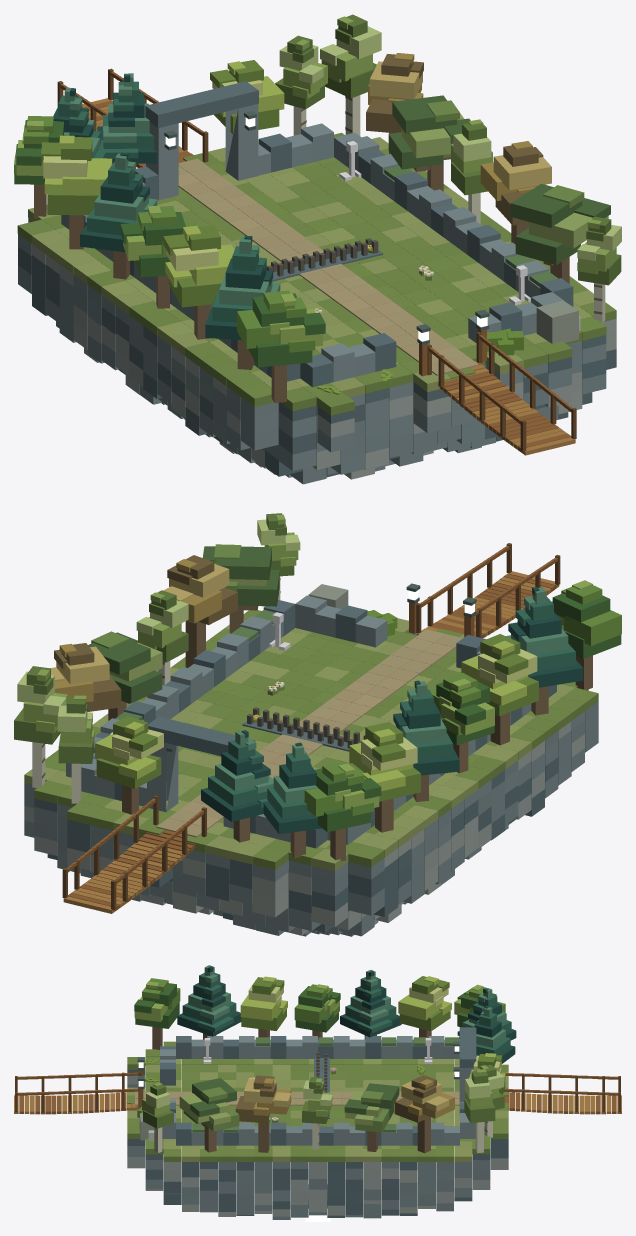
The model's file is room_spikes_purified.glb.
3 renders of one model, top to bottom at view 1: azimuth 30°, elevation 25°; view 2: azimuth 150°, elevation 25°; view 3: azimuth 270°, elevation 25°, orthographic. The views are drawn at different scales.
Parts seen in each view (by area): view 1: room_spikes_blocks, tree0_(0, 0).001, tree3_(0, 0).001, tree4_(0, 0).002, tree3_(0, 0).002, tree4_(0, 0).001, tree2_(0, 0).002, tree2_(0, 0).001, tree1_(0, 0).003, tree5_(0, 0).001, tree2_(0, 0).004, tree0_(0, 0).002 (+9 smaller); view 2: room_spikes_blocks, tree2_(0, 0).004, tree2_(0, 0).001, tree4_(0, 0).001, tree4_(0, 0).002, tree0_(0, 0).003, tree5_(0, 0).001, tree0_(0, 0).001, tree4_(0, 0).003, tree2_(0, 0).002, tree2_(0, 0).003, tree0_(0, 0).002 (+8 smaller); view 3: room_spikes_blocks, tree2_(0, 0).001, tree3_(0, 0).001, tree2_(0, 0).002, tree5_(0, 0).002, tree4_(0, 0).002, tree5_(0, 0).001, tree3_(0, 0).002, tree4_(0, 0).001, tree0_(0, 0).001, tree0_(0, 0).002, tree1_(0, 0).003 (+7 smaller).
Part boxes in pixels (left/top/right/bottom): room_spikes_blocks: left=17, top=68, right=616, bottom=484; tree0_(0, 0).001: left=237, top=290, right=325, bottom=402; tree3_(0, 0).001: left=510, top=183, right=610, bottom=283; tree4_(0, 0).002: left=41, top=135, right=112, bottom=249; tree3_(0, 0).002: left=388, top=95, right=470, bottom=191; tree4_(0, 0).001: left=163, top=225, right=234, bottom=339; tree2_(0, 0).002: left=80, top=152, right=157, bottom=279; tree2_(0, 0).001: left=205, top=235, right=280, bottom=369; tree1_(0, 0).003: left=320, top=14, right=381, bottom=135; tree5_(0, 0).001: left=480, top=141, right=551, bottom=244; tree2_(0, 0).004: left=97, top=73, right=157, bottom=163; tree0_(0, 0).002: left=120, top=205, right=196, bottom=308; room_spikes_blocks: left=24, top=543, right=598, bottom=936; tree2_(0, 0).004: left=201, top=730, right=273, bottom=842; tree2_(0, 0).001: left=505, top=587, right=583, bottom=715; tree4_(0, 0).001: left=461, top=634, right=538, bottom=745; tree4_(0, 0).002: left=348, top=721, right=420, bottom=832; tree0_(0, 0).003: left=304, top=761, right=381, bottom=861; tree5_(0, 0).001: left=163, top=555, right=237, bottom=667; tree0_(0, 0).001: left=552, top=580, right=621, bottom=690; tree4_(0, 0).003: left=95, top=716, right=163, bottom=814; tree2_(0, 0).002: left=393, top=680, right=459, bottom=801; tree2_(0, 0).003: left=263, top=742, right=321, bottom=858; tree0_(0, 0).002: left=430, top=673, right=494, bottom=773; room_spikes_blocks: left=14, top=1027, right=621, bottom=1221; tree2_(0, 0).001: left=177, top=965, right=241, bottom=1039; tree3_(0, 0).001: left=179, top=1078, right=239, bottom=1152; tree2_(0, 0).002: left=340, top=970, right=401, bottom=1039; tree5_(0, 0).002: left=394, top=1075, right=454, bottom=1153; tree4_(0, 0).002: left=398, top=976, right=451, bottom=1037; tree5_(0, 0).001: left=235, top=1075, right=291, bottom=1152; tree3_(0, 0).002: left=344, top=1083, right=399, bottom=1151; tree4_(0, 0).001: left=240, top=976, right=287, bottom=1037; tree0_(0, 0).001: left=134, top=978, right=180, bottom=1049; tree0_(0, 0).002: left=294, top=984, right=340, bottom=1039; tree1_(0, 0).003: left=464, top=1069, right=495, bottom=1153.
Bounding box in the file's own units: 19.16 × 14.04 × 38.5.
